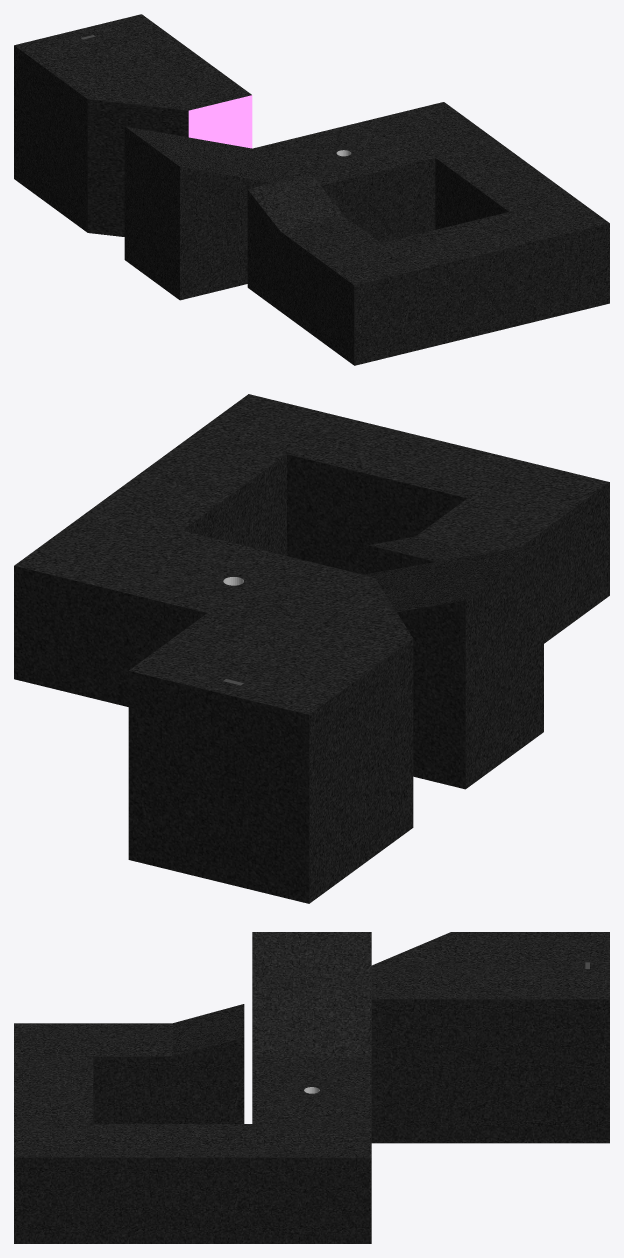
File: Hole 5 Base.glb
The picture shows the model from 3 angles, top to bottom: view 1: azimuth 30°, elevation 25°; view 2: azimuth 150°, elevation 25°; view 3: azimuth 270°, elevation 25°; orthographic projection. The views are drawn at different scales.
Parts seen in each view (by area): view 1: Hole 5 Base; view 2: Hole 5 Base; view 3: Hole 5 Base.
Part boxes in pixels (left/top/right/bottom): Hole 5 Base: left=14, top=14, right=609, bottom=365; Hole 5 Base: left=14, top=394, right=609, bottom=903; Hole 5 Base: left=14, top=932, right=609, bottom=1243.
Size of what is drawn, in the model's own units: 10 by 4 by 15.
Materials: 4 (1 with a texture image).
